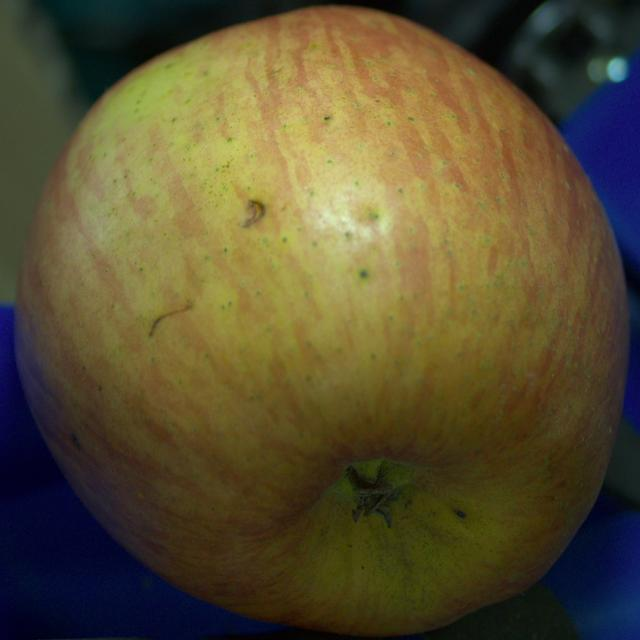apple: (14, 6, 629, 635)
pest: (71, 433, 81, 450), (456, 511, 466, 516)
scratch: (149, 302, 192, 336), (241, 201, 265, 226)
